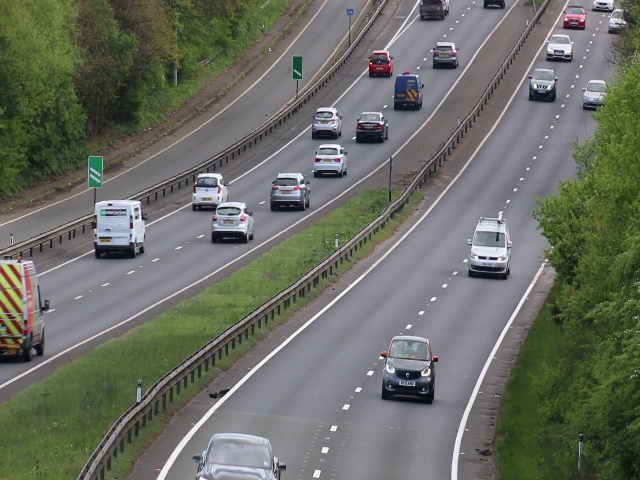car: (1, 258, 49, 361), (380, 333, 435, 408), (195, 435, 285, 480), (93, 199, 148, 261), (471, 214, 508, 276), (210, 199, 254, 244), (271, 172, 311, 213), (193, 172, 231, 210), (354, 108, 389, 144), (312, 141, 348, 175), (392, 72, 424, 110), (527, 67, 557, 102), (313, 104, 342, 138), (545, 32, 573, 64), (432, 40, 461, 70), (368, 47, 393, 78), (563, 4, 586, 32), (583, 77, 602, 109)
